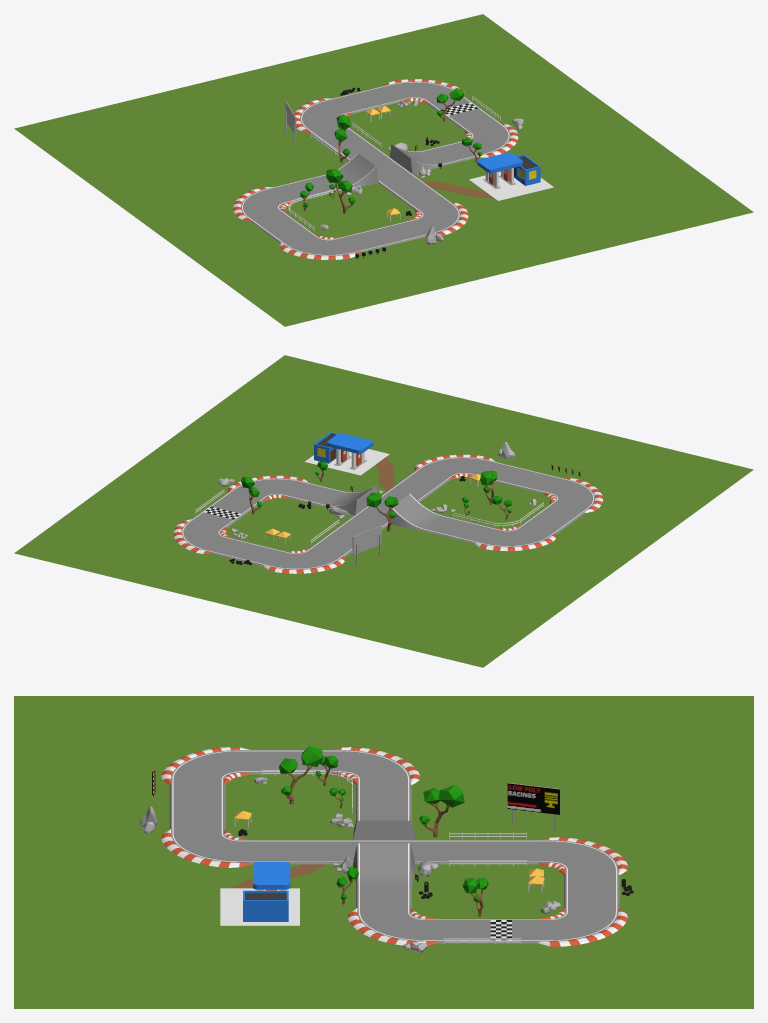
Rendered from track.glb.
3 renders of one model, top to bottom at view 1: azimuth 30°, elevation 25°; view 2: azimuth 150°, elevation 25°; view 3: azimuth 270°, elevation 25°, orthographic. The views are drawn at different scales.
Visible parts, largest first — view 1: baked; view 2: baked; view 3: baked.
Part boxes in pixels (x1=…): baked: x1=14, y1=14, x2=753, y2=326; baked: x1=14, y1=355, x2=753, y2=667; baked: x1=14, y1=696, x2=753, y2=1008.
Size of the model in its own units: 139 by 12.25 by 139.
Materials: 4 (3 with a texture image).
